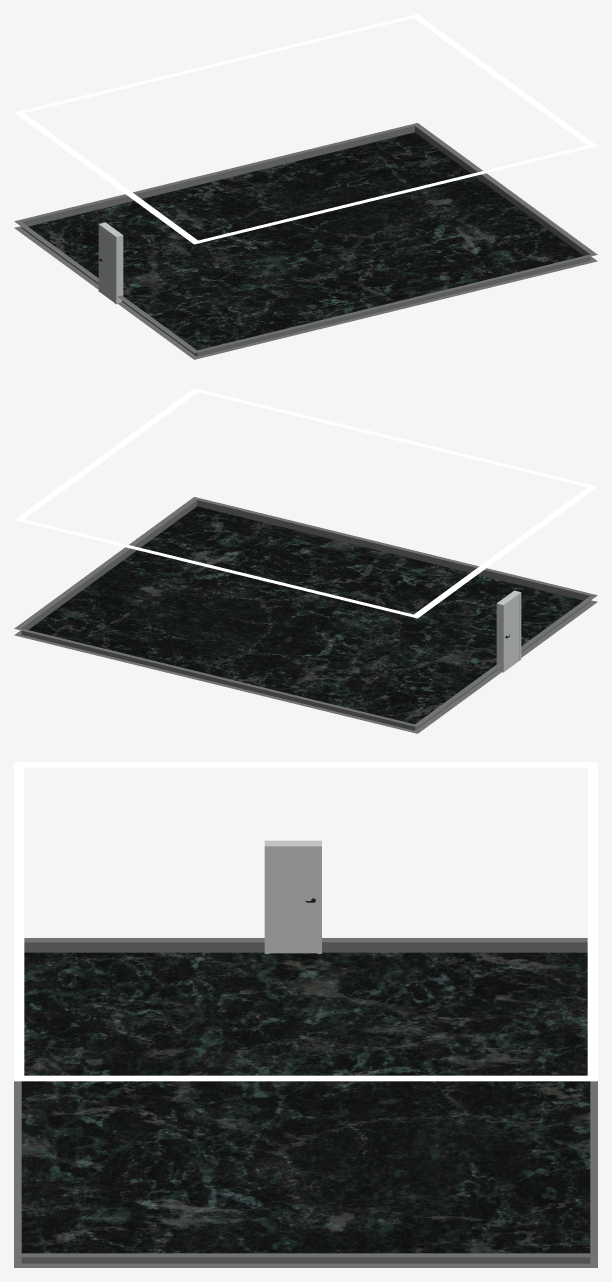
The model's file is env_simple.glb.
3 renders of one model, top to bottom at view 1: azimuth 30°, elevation 25°; view 2: azimuth 150°, elevation 25°; view 3: azimuth 270°, elevation 25°, orthographic. The views are drawn at different scales.
Visible parts, largest first — view 1: light_Material.002_0; view 2: light_Material.002_0; view 3: light_Material.002_0.
Part boxes in pixels (x1,y1,x2,y2): light_Material.002_0: [14, 14, 597, 359]; light_Material.002_0: [14, 388, 597, 733]; light_Material.002_0: [14, 762, 597, 1267].
Bounding box in the file's own units: 66.35 × 18.15 × 50.99.
Materials: 5 (1 with a texture image).
